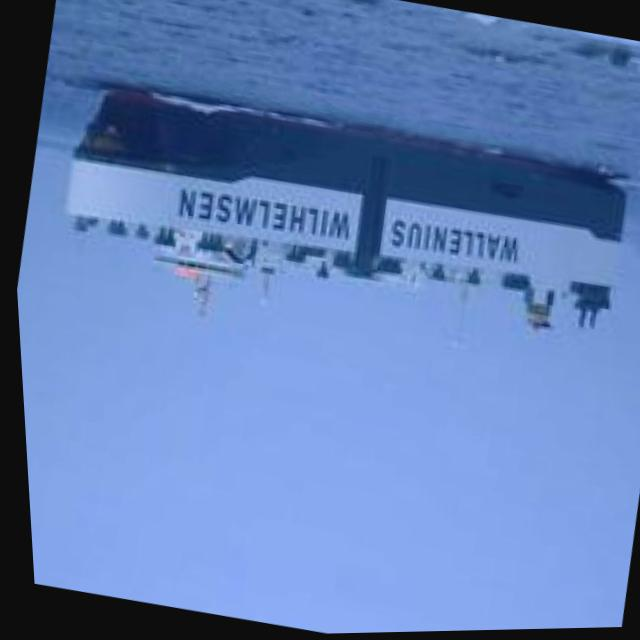ship2: (60, 84, 625, 332)
